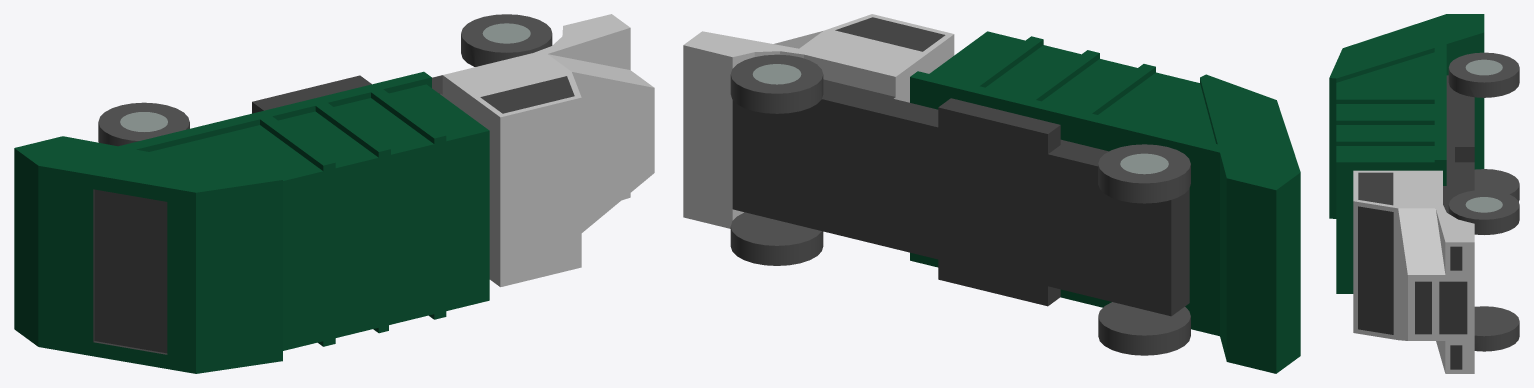
File: garbage_truck.dae
3 renders of one model, left to right at view 1: azimuth 30°, elevation 25°; view 2: azimuth 150°, elevation 25°; view 3: azimuth 270°, elevation 25°, orthographic. The views are drawn at different scales.
Visible parts, largest first — view 1: coords_ME_ID3_MA___auto_100, coords_ME_ID39_MA___auto_218, coords_ME_ID79_MA___auto_, coords_ME_ID47_MA_material, coords_ME_ID11_MA_material, coords_ME_ID19_MA___auto_, coords_ME_ID61_MA___auto_, coords_ME_ID53_MA___auto_8, coords_ME_ID115_MA___auto_8; view 2: coords_ME_ID61_MA___auto_, coords_ME_ID3_MA___auto_100, coords_ME_ID39_MA___auto_218, coords_ME_ID47_MA_material, coords_ME_ID11_MA_material, coords_ME_ID27_MA_material, coords_ME_ID67_MA_material, coords_ME_ID19_MA___auto_, coords_ME_ID115_MA___auto_8, coords_ME_ID53_MA___auto_8; view 3: coords_ME_ID3_MA___auto_100, coords_ME_ID39_MA___auto_218, coords_ME_ID91_MA___auto_, coords_ME_ID61_MA___auto_, coords_ME_ID11_MA_material, coords_ME_ID47_MA_material, coords_ME_ID67_MA_material, coords_ME_ID121_MA___auto_, coords_ME_ID19_MA___auto_, coords_ME_ID27_MA_material, coords_ME_ID73_MA___auto_, coords_ME_ID115_MA___auto_8 (+3 smaller).
Part boxes in pixels (box(x1,y1,x2,y2)): coords_ME_ID3_MA___auto_100: box(14, 71, 489, 373); coords_ME_ID39_MA___auto_218: box(440, 14, 654, 287); coords_ME_ID79_MA___auto_: box(93, 189, 167, 354); coords_ME_ID47_MA_material: box(461, 14, 552, 66); coords_ME_ID11_MA_material: box(98, 102, 189, 146); coords_ME_ID19_MA___auto_: box(480, 76, 574, 113); coords_ME_ID61_MA___auto_: box(252, 75, 442, 113); coords_ME_ID53_MA___auto_8: box(482, 23, 530, 43); coords_ME_ID115_MA___auto_8: box(120, 112, 167, 131); coords_ME_ID61_MA___auto_: box(732, 79, 1189, 316); coords_ME_ID3_MA___auto_100: box(910, 31, 1300, 373); coords_ME_ID39_MA___auto_218: box(683, 14, 954, 228); coords_ME_ID47_MA_material: box(730, 54, 823, 113); coords_ME_ID11_MA_material: box(1098, 144, 1190, 203); coords_ME_ID27_MA_material: box(1098, 302, 1190, 355); coords_ME_ID67_MA_material: box(730, 212, 823, 265); coords_ME_ID19_MA___auto_: box(835, 17, 945, 51); coords_ME_ID115_MA___auto_8: box(1120, 153, 1168, 174); coords_ME_ID53_MA___auto_8: box(752, 64, 801, 84); coords_ME_ID3_MA___auto_100: box(1329, 14, 1484, 293); coords_ME_ID39_MA___auto_218: box(1353, 170, 1474, 373); coords_ME_ID91_MA___auto_: box(1358, 206, 1393, 334); coords_ME_ID61_MA___auto_: box(1443, 75, 1474, 213); coords_ME_ID11_MA_material: box(1448, 52, 1519, 97); coords_ME_ID47_MA_material: box(1448, 190, 1519, 234); coords_ME_ID67_MA_material: box(1474, 306, 1519, 351); coords_ME_ID121_MA___auto_: box(1439, 281, 1467, 334); coords_ME_ID19_MA___auto_: box(1358, 172, 1393, 205); coords_ME_ID27_MA_material: box(1474, 169, 1519, 201); coords_ME_ID73_MA___auto_: box(1415, 281, 1431, 334); coords_ME_ID115_MA___auto_8: box(1465, 59, 1502, 75).
Bounding box in the file's own units: 67.06 × 19.64 × 24.1.
